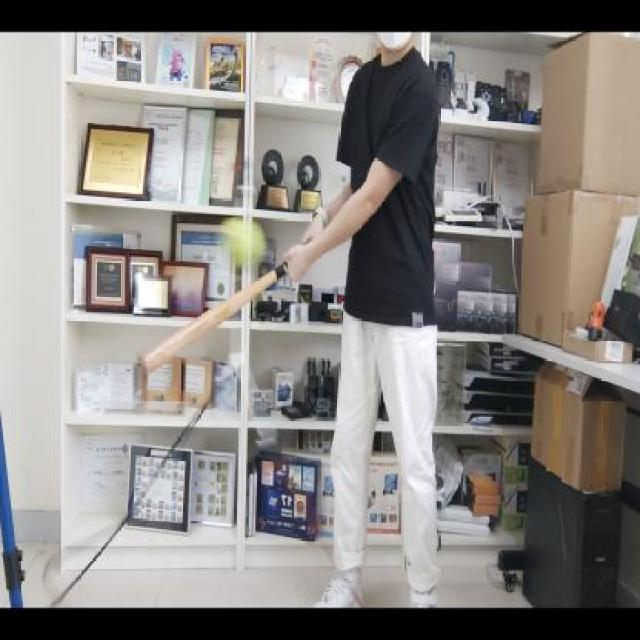baseball: (217, 209, 269, 269)
